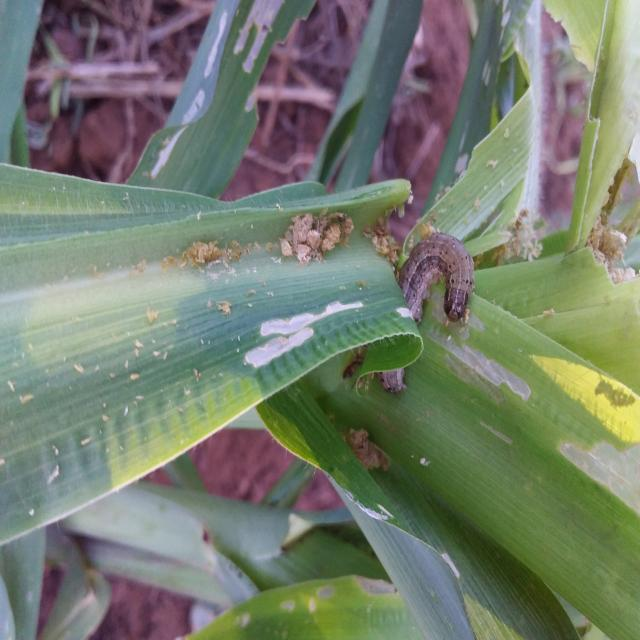yellow-stem-borer-larva: (360, 212, 516, 428)
